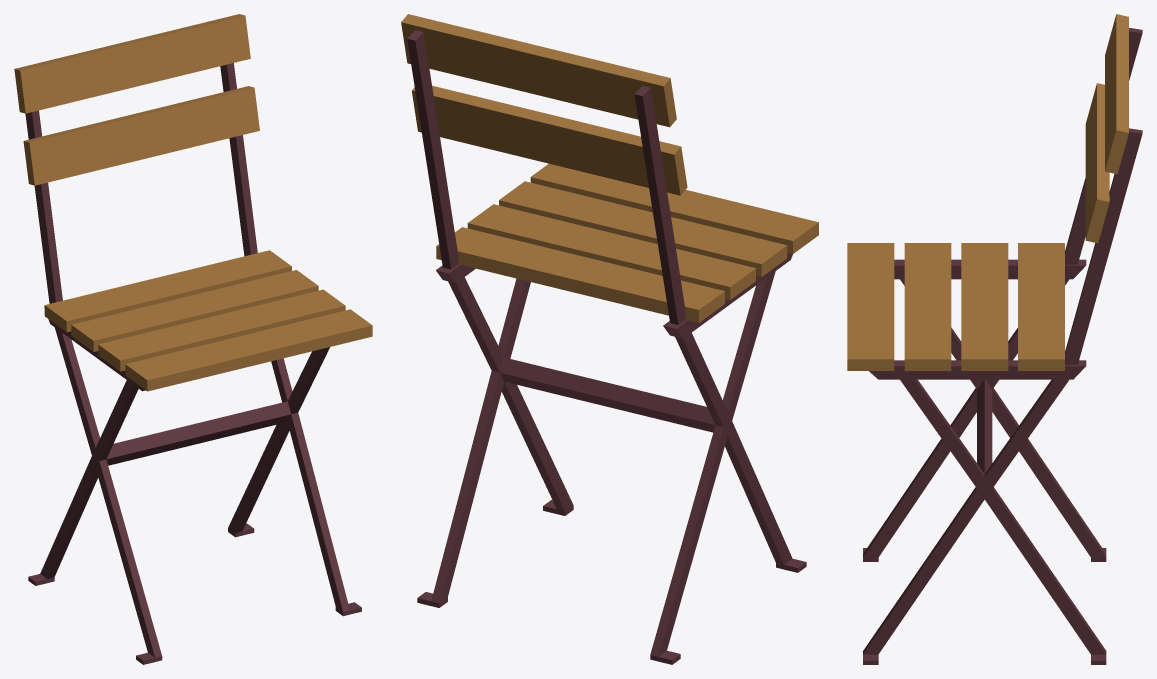
The model's file is chair-outside-small.fbx.
3 renders of one model, left to right at view 1: azimuth 30°, elevation 25°; view 2: azimuth 150°, elevation 25°; view 3: azimuth 270°, elevation 25°, orthographic. The views are drawn at different scales.
Parts seen in each view (by area): view 1: chair-outside-small; view 2: chair-outside-small; view 3: chair-outside-small.
Boxes of the visible parts, <box> form: chair-outside-small: <box>14,14,372,664</box>; chair-outside-small: <box>401,14,818,664</box>; chair-outside-small: <box>847,14,1142,664</box>.
Bounding box in the file's own units: 0.4116 × 0.8864 × 0.4418.
